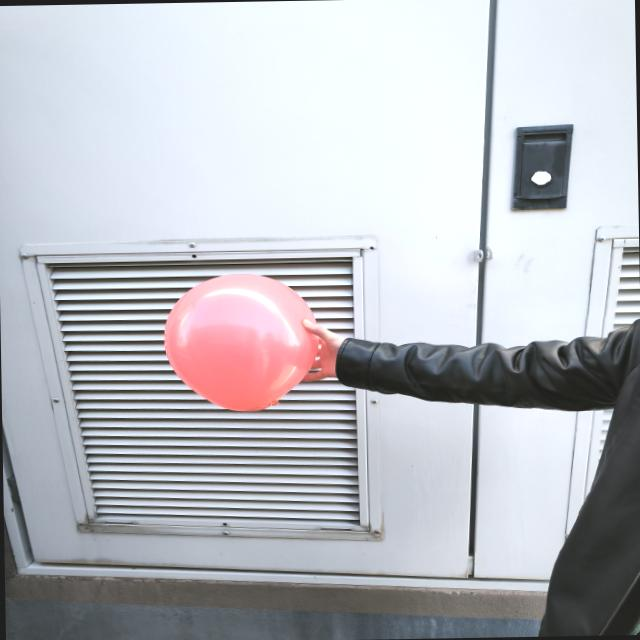balloon: (164, 274, 317, 411)
